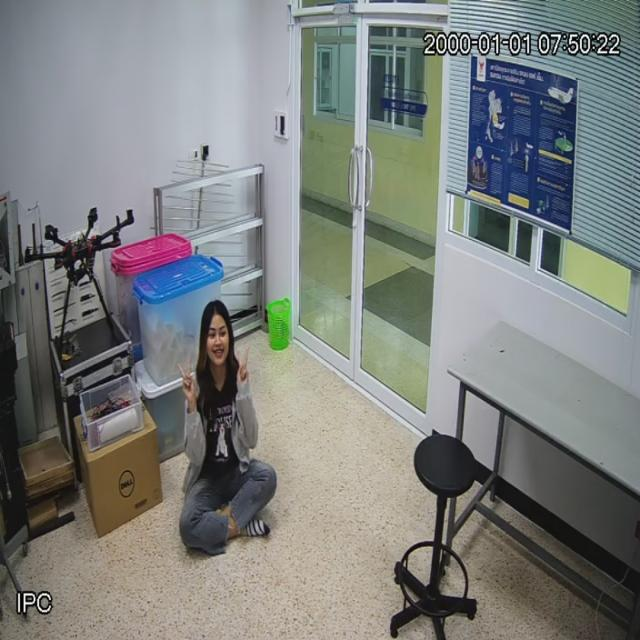normal: (172, 301, 281, 564)
